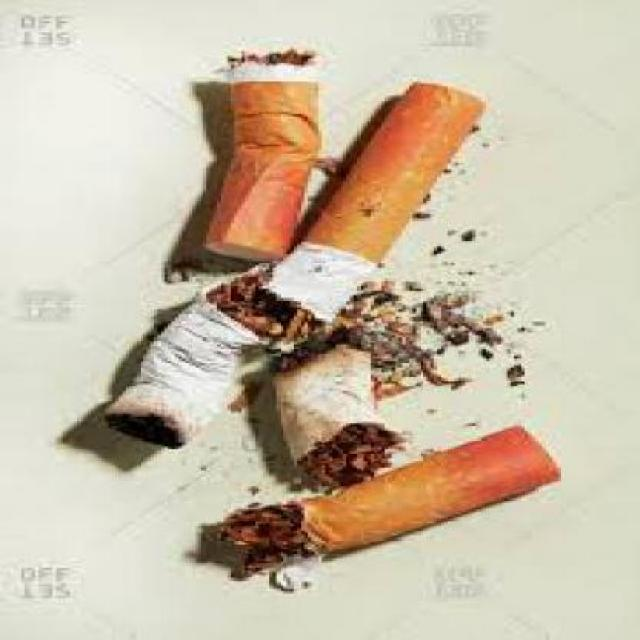cigarette: (241, 428, 622, 577), (293, 77, 504, 321), (104, 308, 290, 437), (210, 51, 312, 272), (276, 361, 419, 492)
